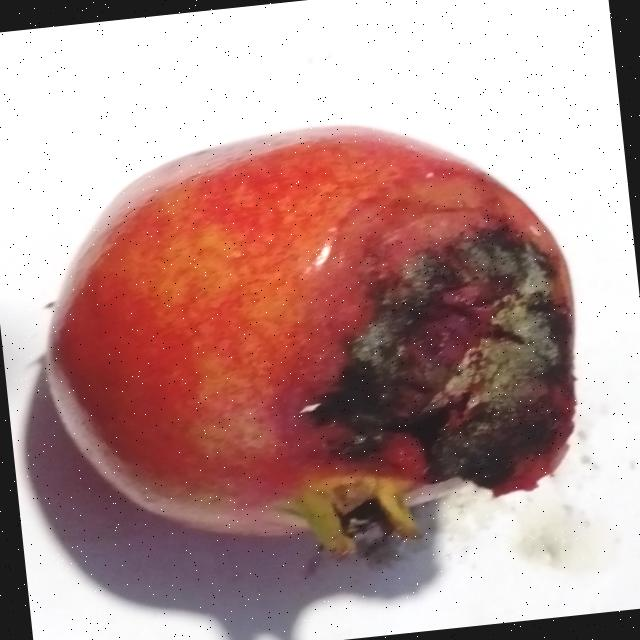Rotten: (20, 102, 602, 589)
